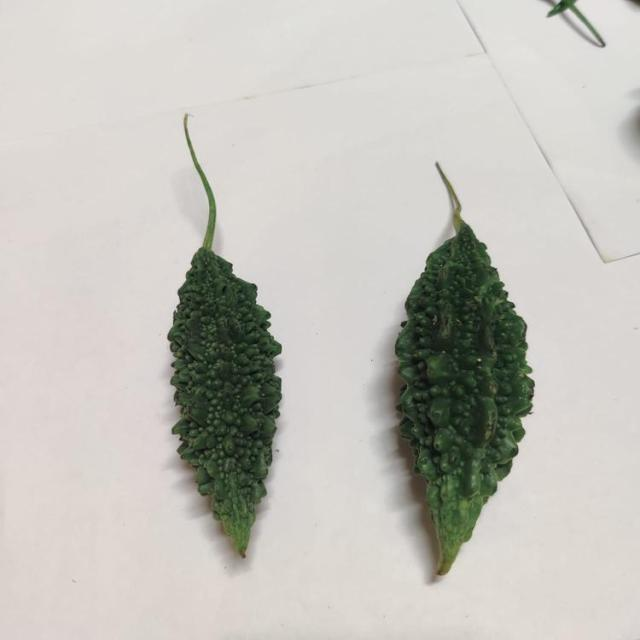Organik: (163, 112, 289, 574), (394, 213, 535, 569)
